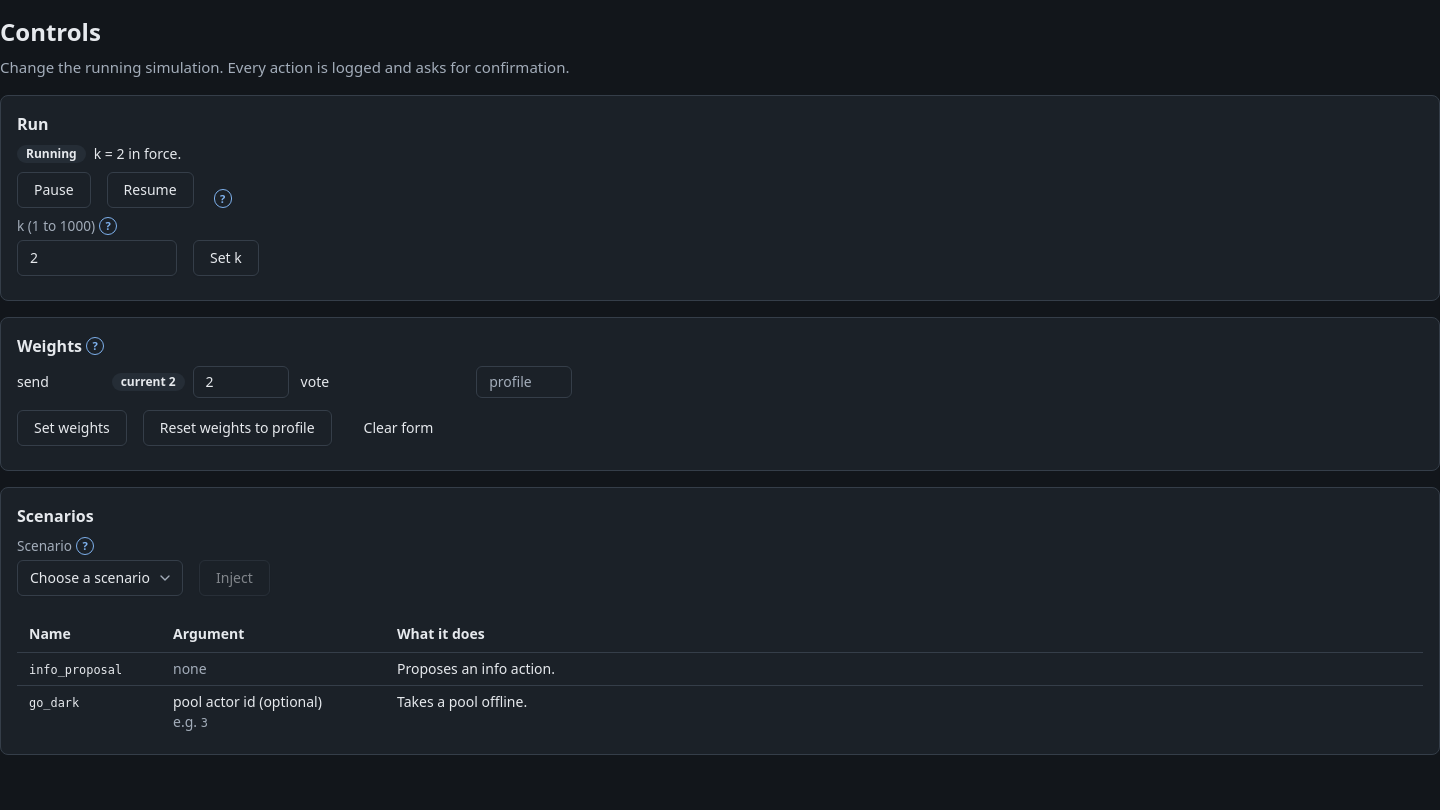
it: controls form › Clear form goes back to the engine's values, and Reset weights sends clear_weights
expect the number field labelled "send" holds "2": met, box [193, 366, 289, 398]
Type "4" into the number field labelled "vote" at (524, 382), box [476, 366, 572, 398]
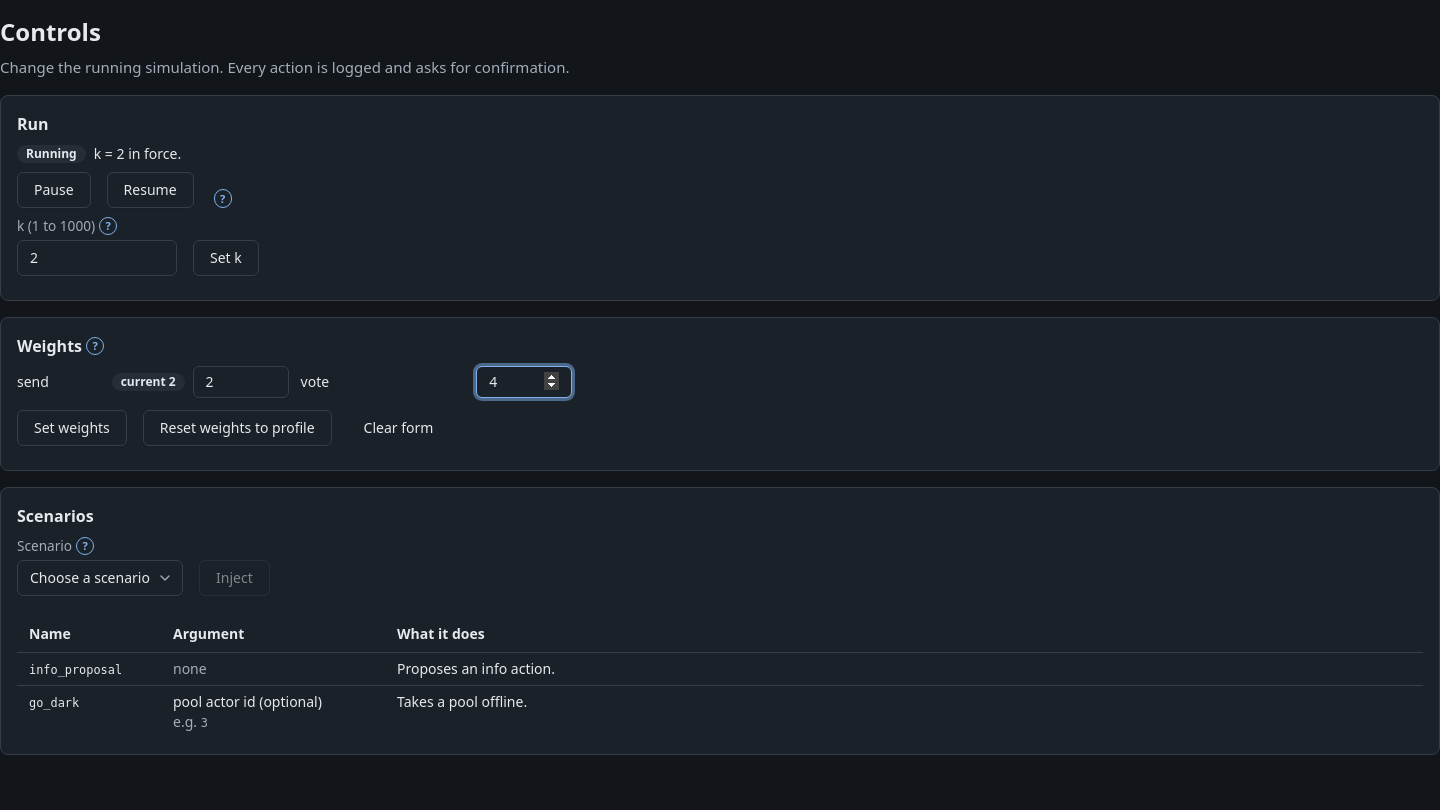
Clear the number field labelled "send" at (241, 382), box [193, 366, 289, 398]
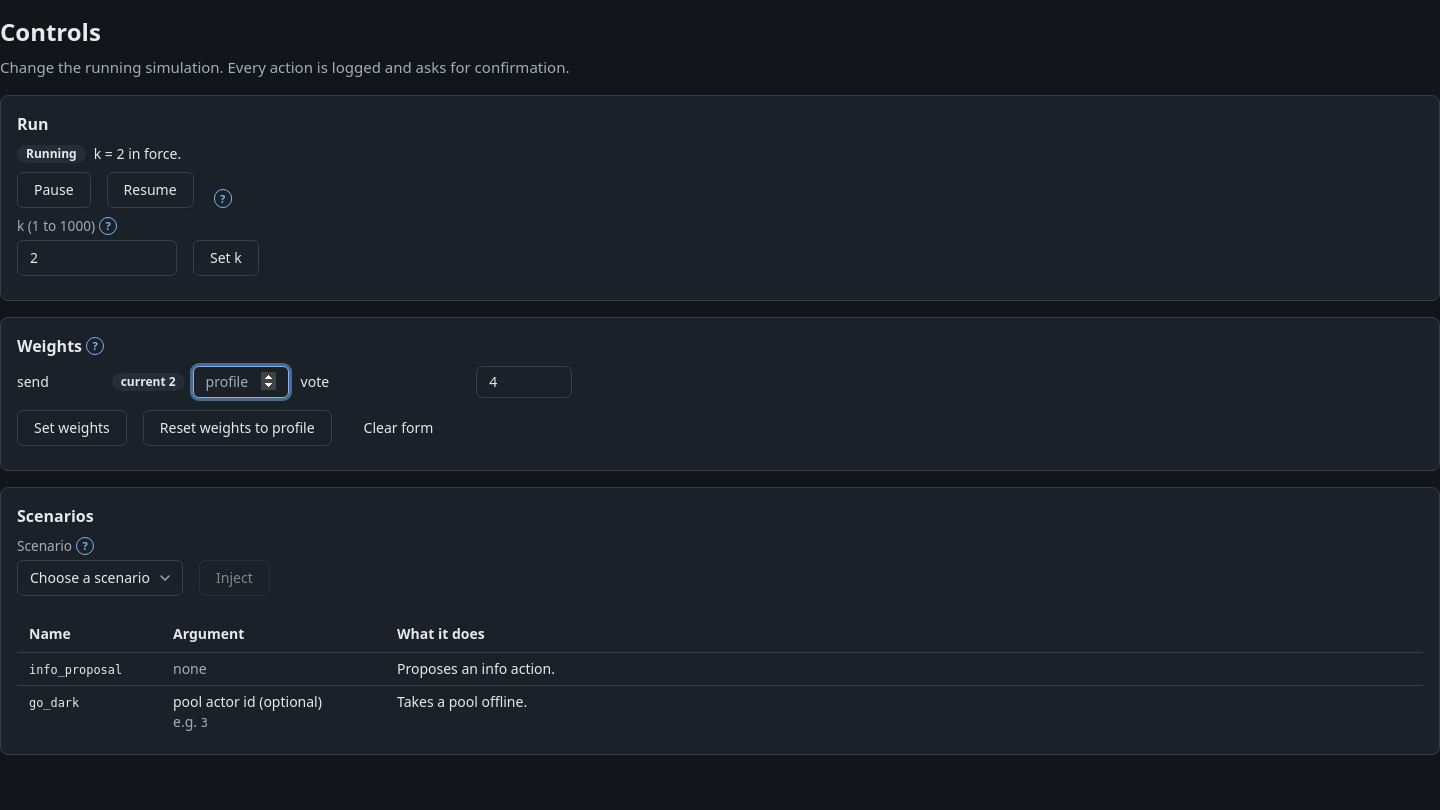
Click the button "Clear form" at (398, 428), box [348, 410, 449, 446]
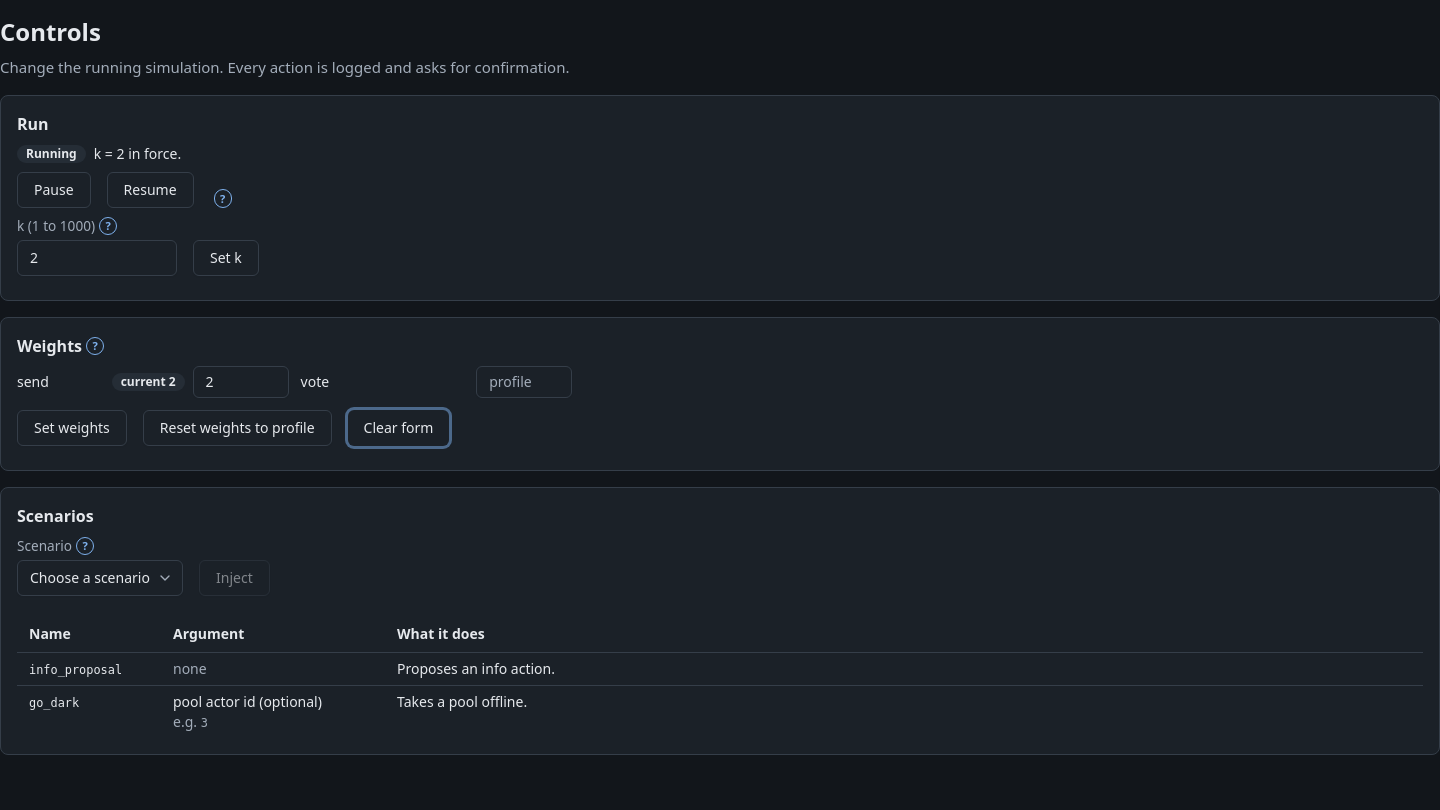
expect the number field labelled "send" holds "2": met, box [193, 366, 289, 398]
expect the number field labelled "vote" is empty: met, box [476, 366, 572, 398]
Click the button "Reset weights to profile" at (237, 428), box [143, 410, 332, 446]
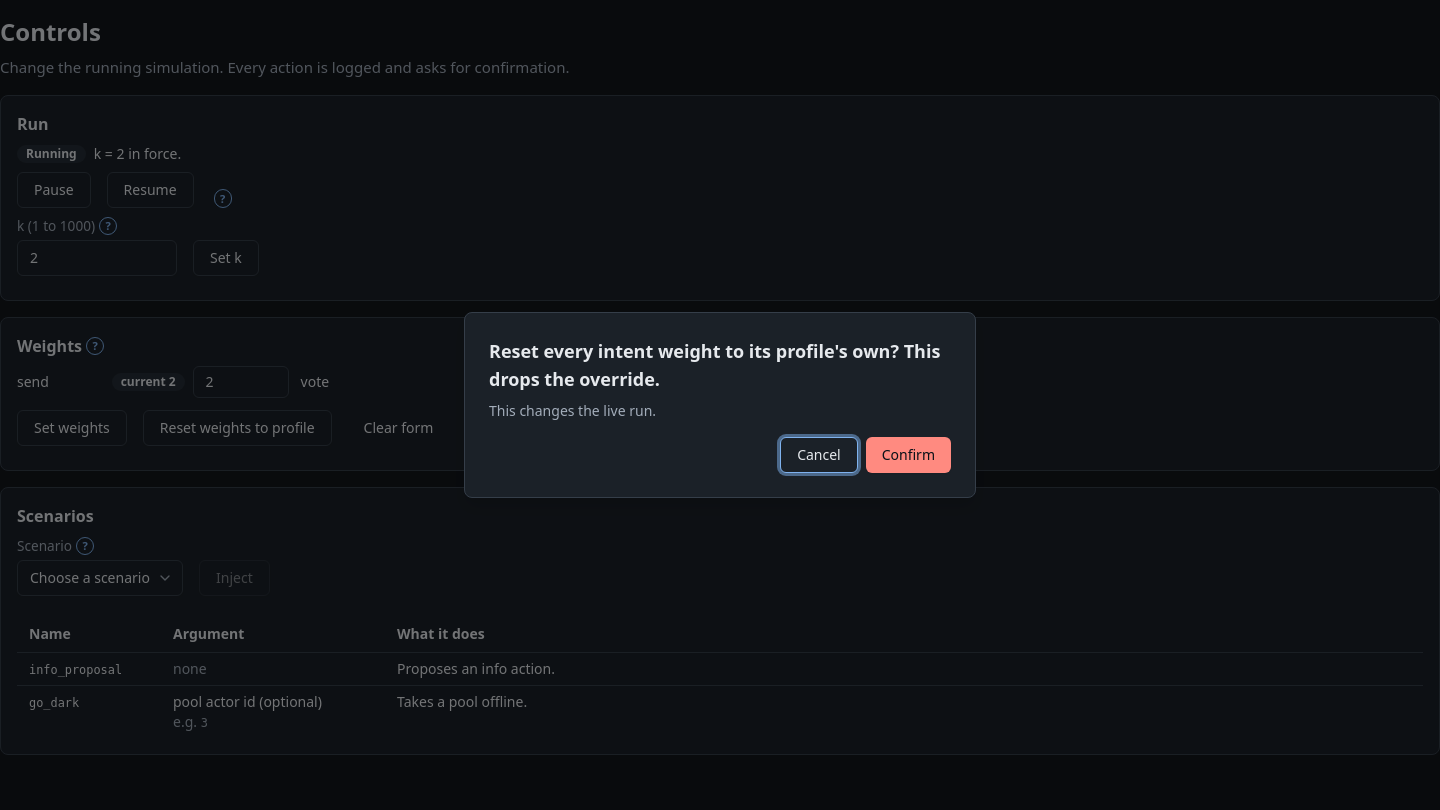
Click the button "Confirm" at (908, 455), box [866, 437, 951, 473]
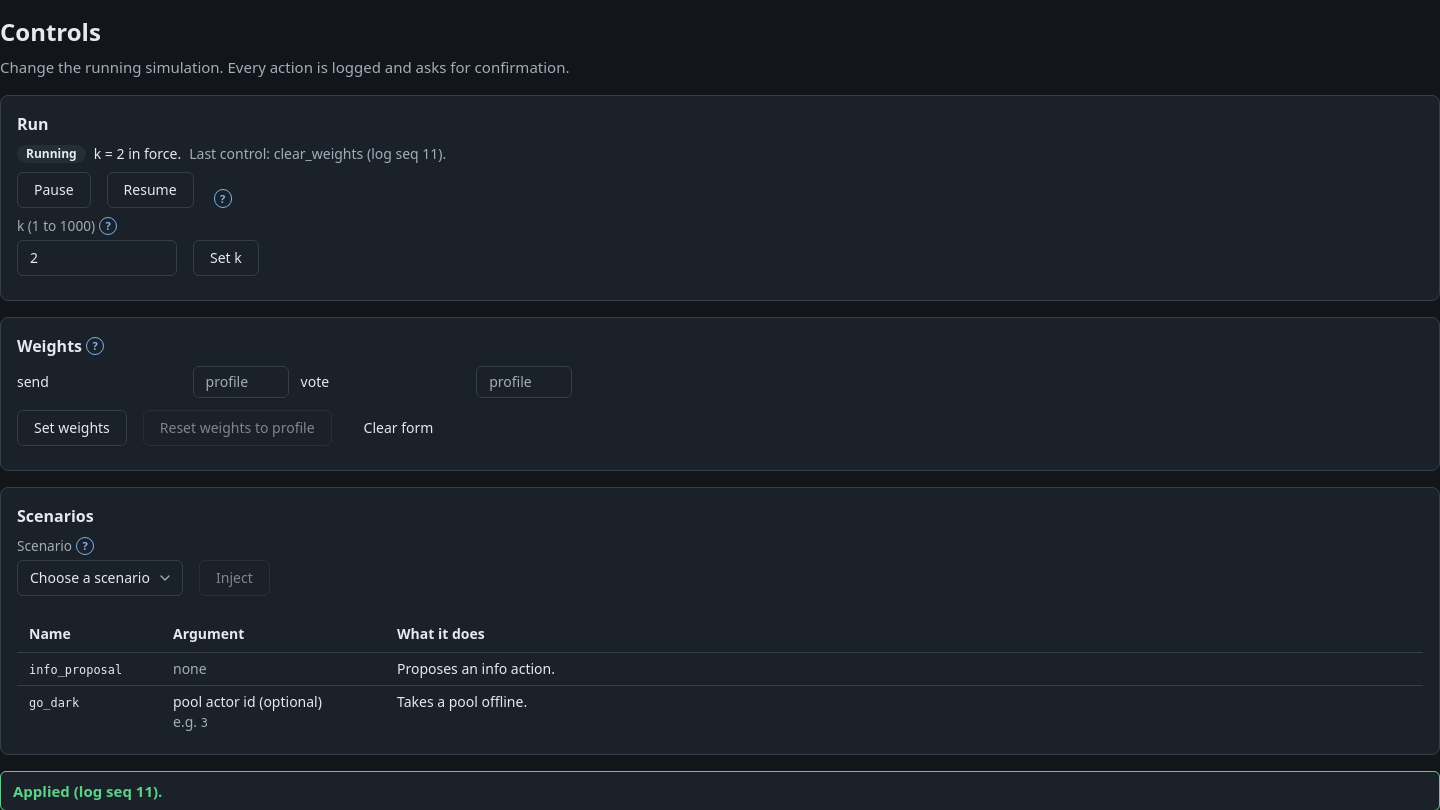
expect the text with test id "current-send" is gone: met
